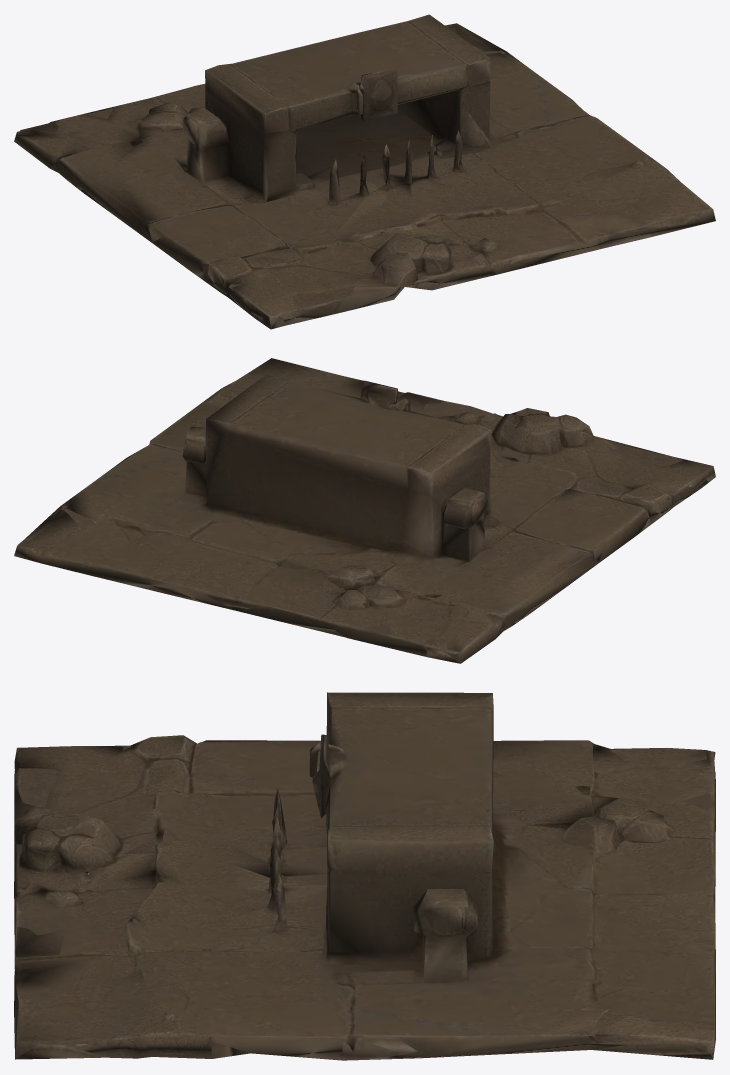
File: spikes.glb
The picture shows the model from 3 angles, top to bottom: view 1: azimuth 30°, elevation 25°; view 2: azimuth 150°, elevation 25°; view 3: azimuth 270°, elevation 25°; orthographic projection. The views are drawn at different scales.
Size of the model in its own units: 1.9 by 0.4952 by 1.89.
Materials: 1 (1 with a texture image).
